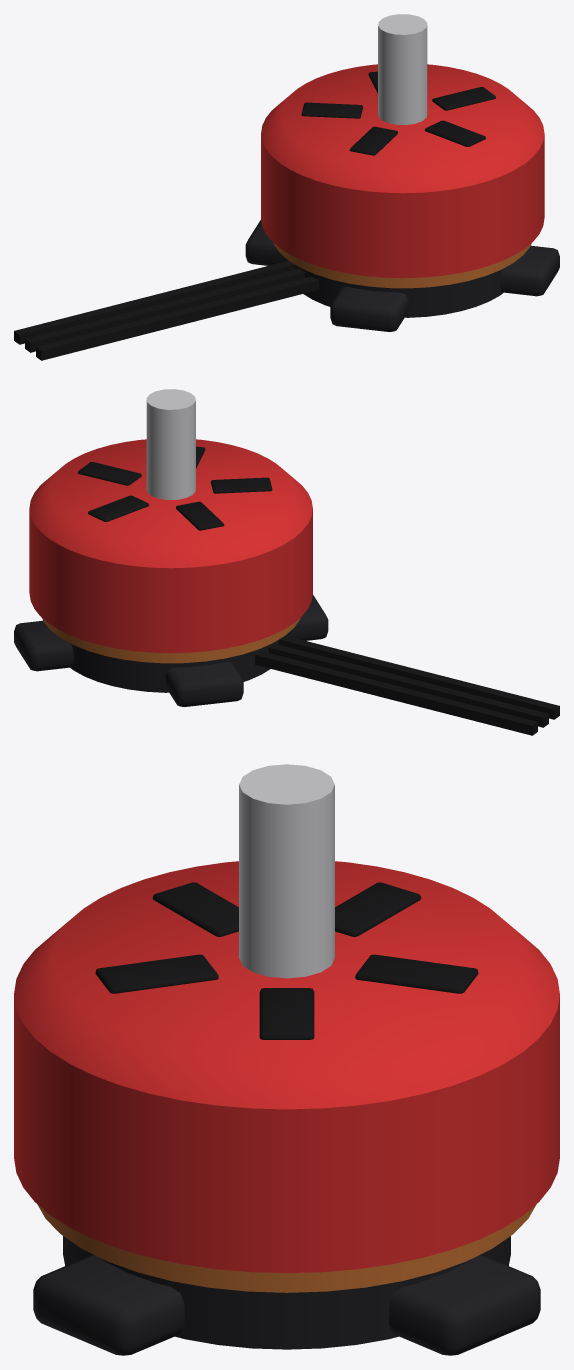
File: motor_2306.glb
3 views of the same model, one above another, from view 1: azimuth 30°, elevation 25°; view 2: azimuth 150°, elevation 25°; view 3: azimuth 270°, elevation 25° (orthographic). The views are drawn at different scales.
Visible parts, largest first — view 1: motor_2306_M_Bell_2306, motor_2306_M_WireBlack, motor_2306_M_MotorBase, motor_2306_M_Steel, motor_2306_M_MotorDark, motor_2306_M_Copper; view 2: motor_2306_M_Bell_2306, motor_2306_M_WireBlack, motor_2306_M_MotorBase, motor_2306_M_Steel, motor_2306_M_MotorDark, motor_2306_M_Copper; view 3: motor_2306_M_Bell_2306, motor_2306_M_MotorBase, motor_2306_M_Steel, motor_2306_M_MotorDark, motor_2306_M_Copper.
Part boxes in pixels (x1,y1,x2,y2): motor_2306_M_Bell_2306: [261, 64, 544, 278]; motor_2306_M_WireBlack: [14, 260, 318, 360]; motor_2306_M_MotorBase: [245, 219, 559, 331]; motor_2306_M_Steel: [378, 14, 427, 124]; motor_2306_M_MotorDark: [301, 71, 495, 155]; motor_2306_M_Copper: [273, 243, 531, 288]; motor_2306_M_Bell_2306: [29, 439, 312, 653]; motor_2306_M_WireBlack: [255, 635, 559, 735]; motor_2306_M_MotorBase: [14, 594, 328, 706]; motor_2306_M_Steel: [146, 389, 195, 499]; motor_2306_M_MotorDark: [78, 446, 272, 530]; motor_2306_M_Copper: [42, 618, 300, 663]; motor_2306_M_Bell_2306: [14, 861, 559, 1273]; motor_2306_M_MotorBase: [33, 1236, 540, 1355]; motor_2306_M_Steel: [239, 764, 334, 978]; motor_2306_M_MotorDark: [95, 882, 478, 1039]; motor_2306_M_Copper: [37, 1204, 536, 1292].
Size of the model in its own units: 0.0578 by 0.0271 by 0.0285.
